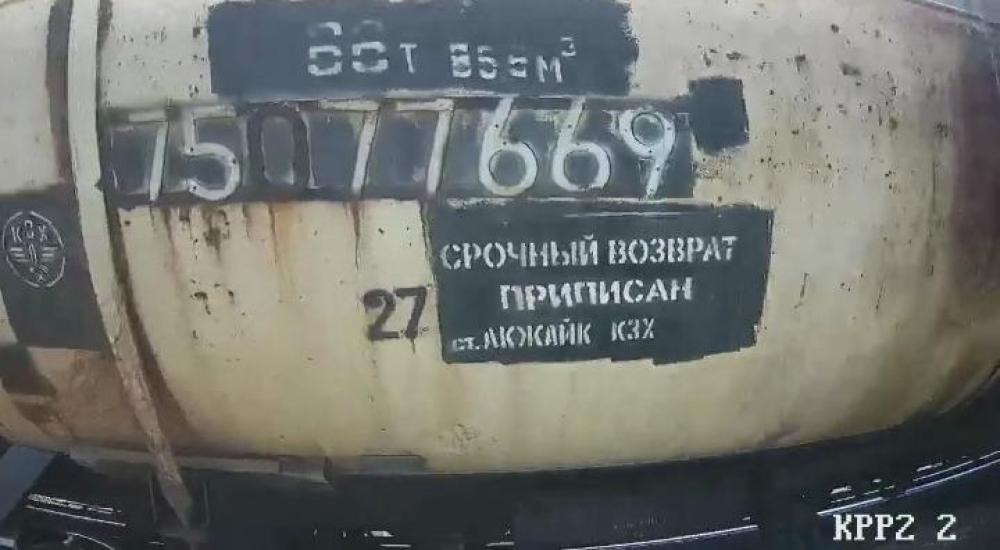Wagon-number: (114, 93, 686, 206)
